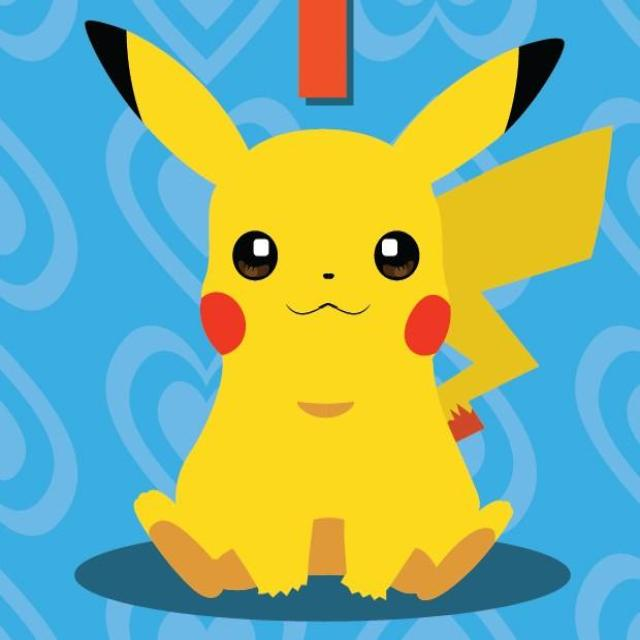pikachu: (82, 13, 615, 605)
